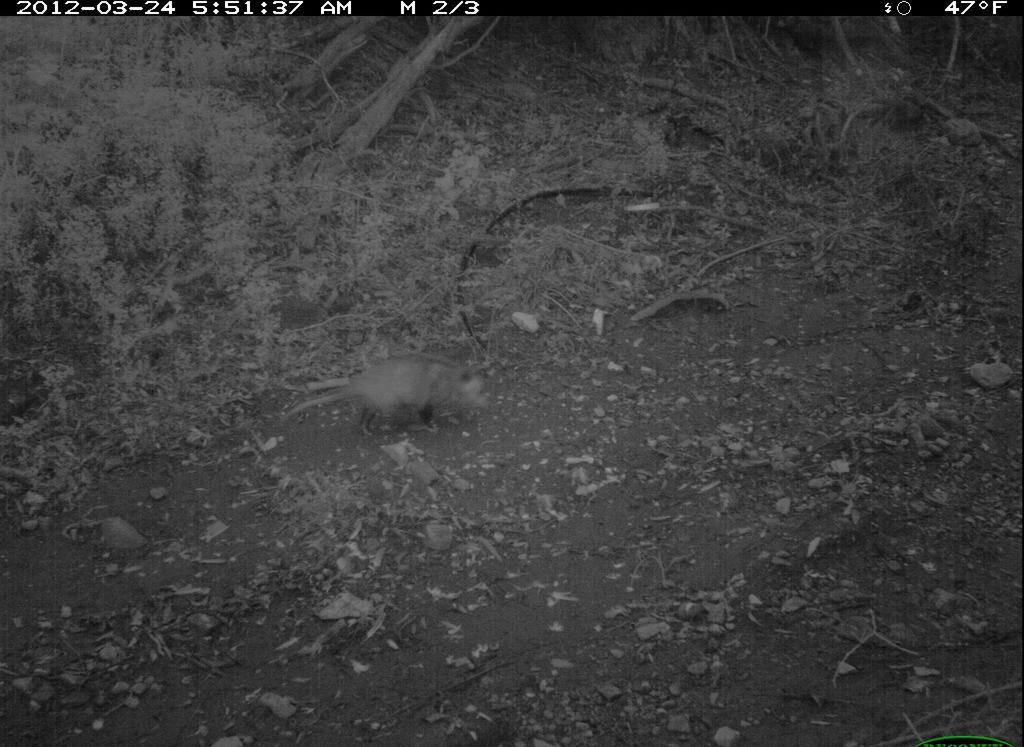opossum: (272, 346, 502, 442)
